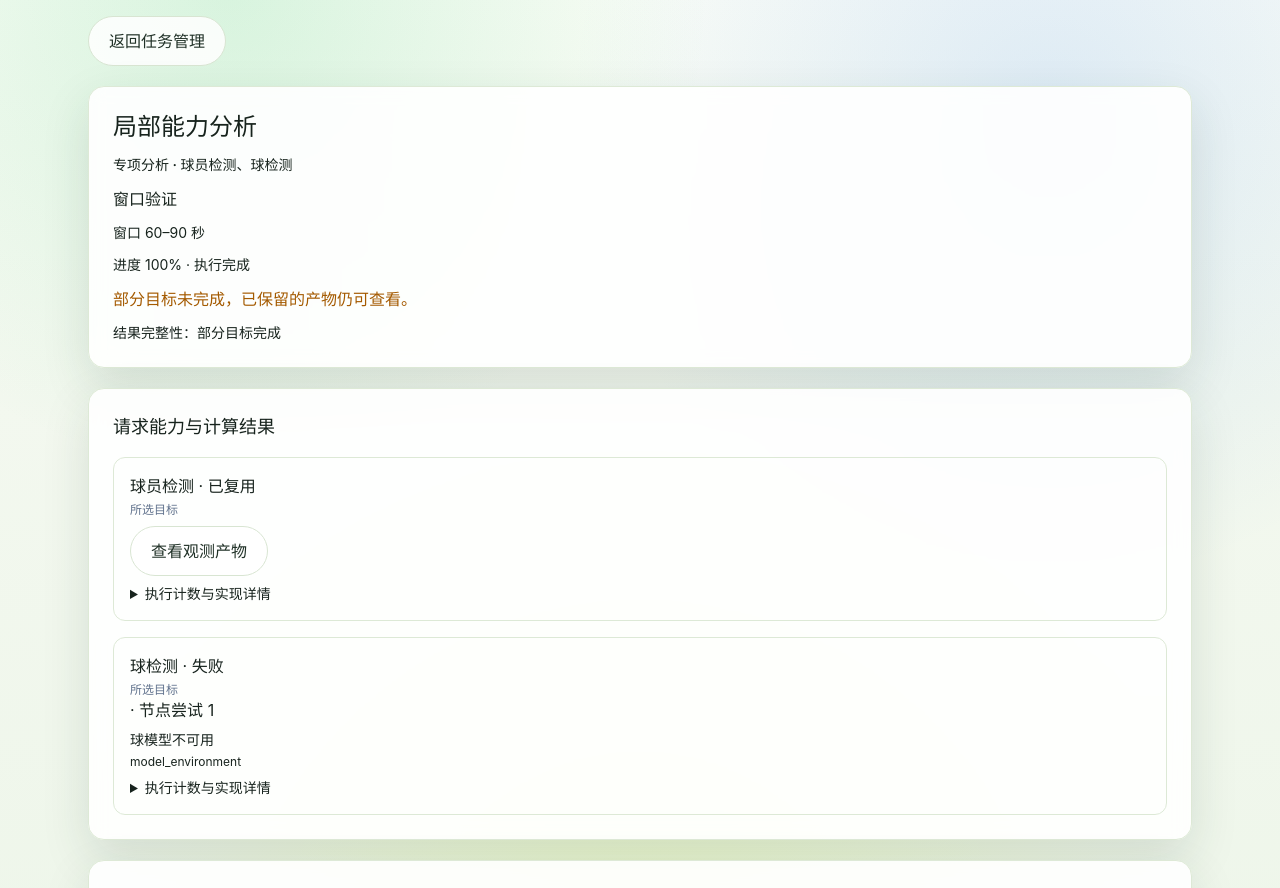
Test: 模块任务结果入口 › 显示部分结果与缓存，并通过受控入口读取观测，不查询产品报告
Expected: the heading "局部能力分析" is shown, [113, 112, 257, 141]
Expected: the text "部分目标未完成，已保留的产物仍可查看。" is shown, [113, 289, 417, 309]
Click the button "查看观测产物".
click(199, 551)  # box [130, 526, 268, 576]
(page scrolled)
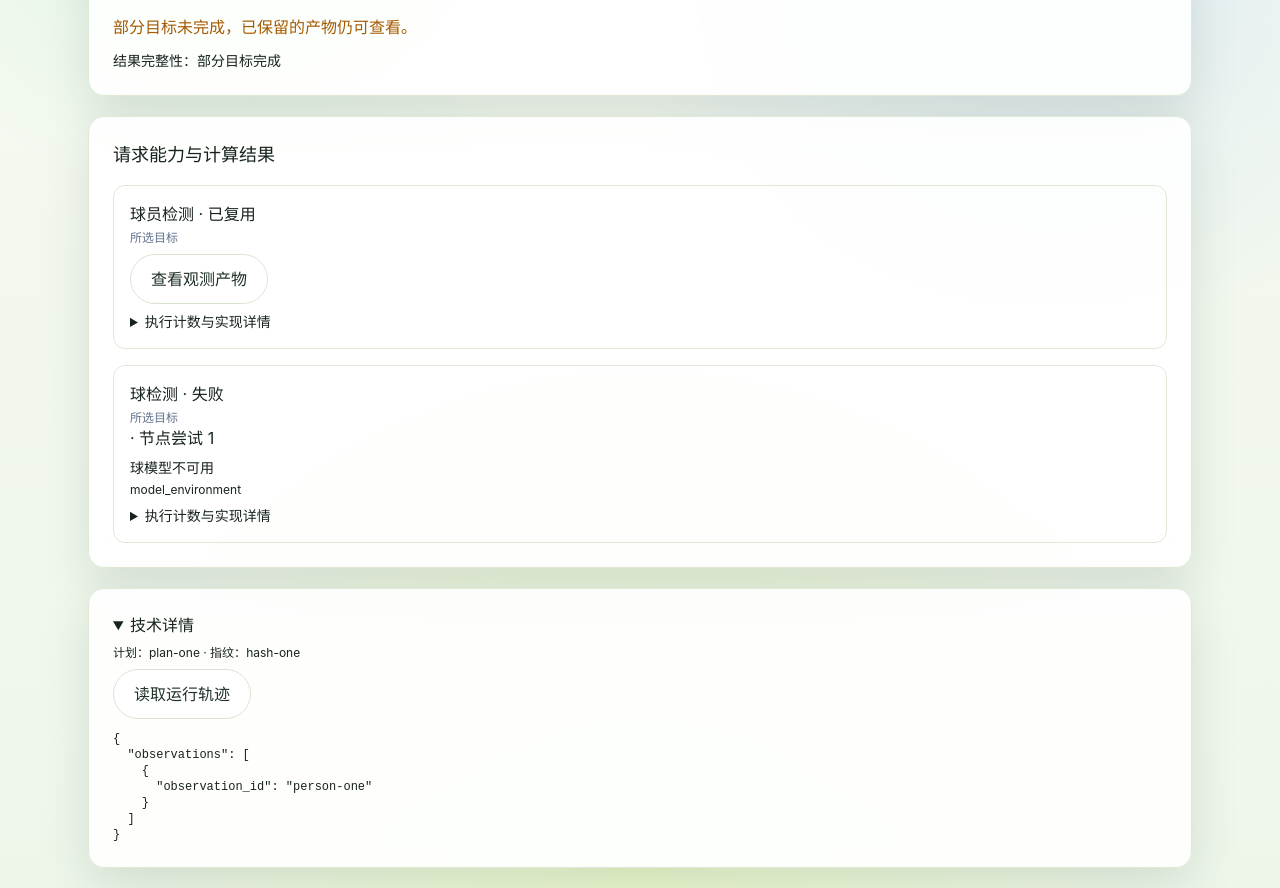
Result: the text "{ \"observations\": [ { \"observation_id\": \"person-one\" } ] }" is shown at [113, 732, 372, 842]
